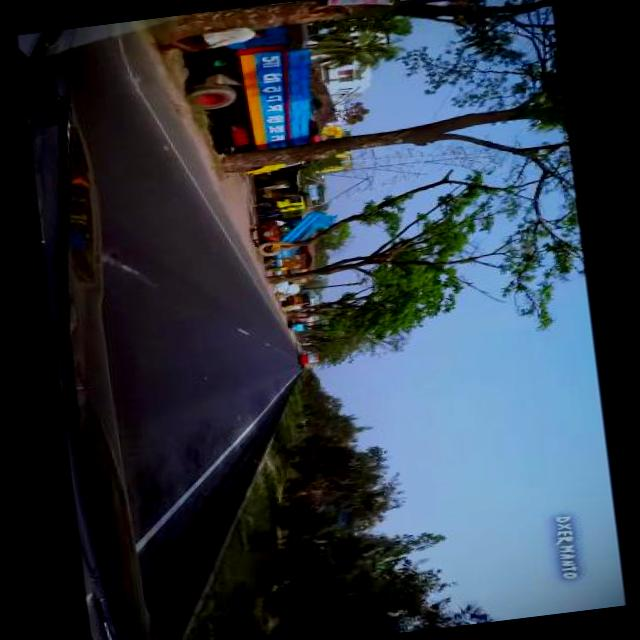bus: (300, 351, 322, 364)
truck: (184, 18, 338, 180), (258, 191, 314, 260)
